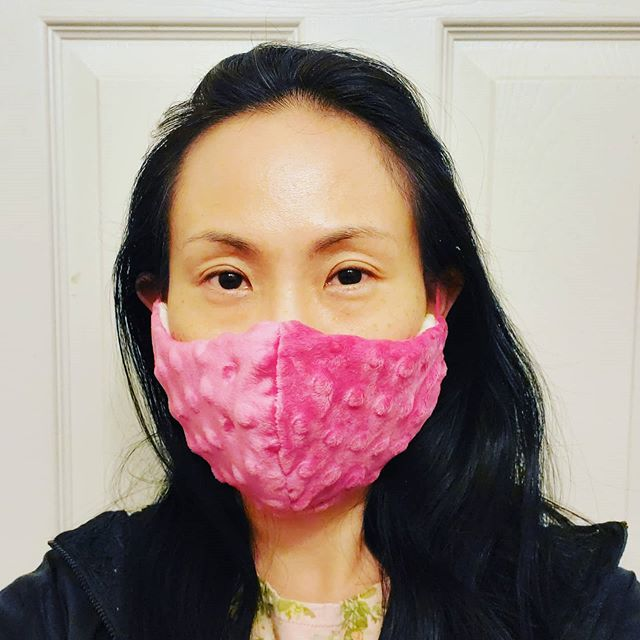homemade: (145, 308, 461, 511)
